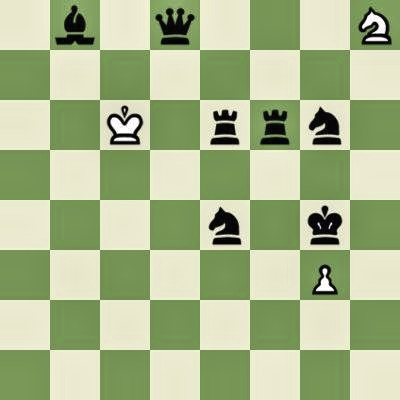black-bishop: (50, 0, 100, 50)
black-king: (300, 200, 350, 250)
black-knight: (300, 100, 350, 150), (200, 200, 250, 250)
black-queen: (150, 0, 200, 50)
black-rook: (200, 100, 250, 150), (250, 100, 300, 150)
white-king: (100, 100, 150, 150)
white-knight: (350, 0, 400, 50)
white-pawn: (300, 250, 350, 300)
